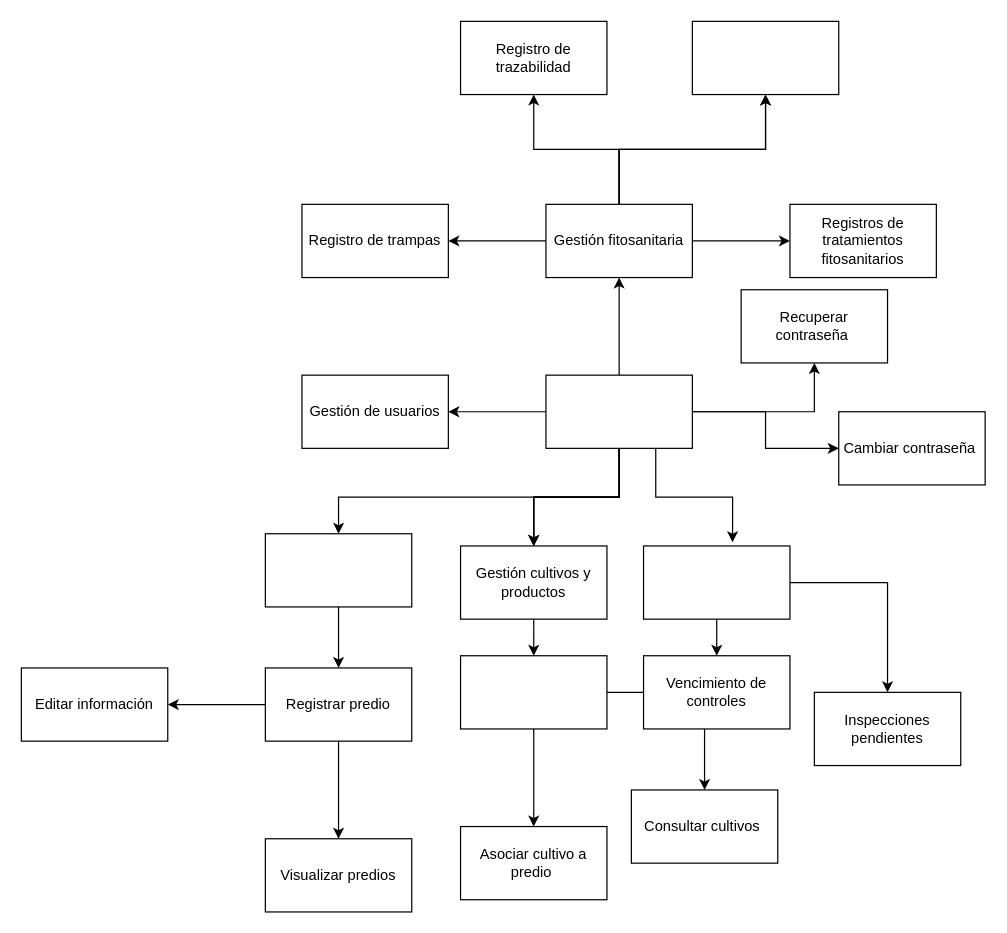
The diagram is 1007 pixels wide and 933 high, and some of its shapes have lost their labels. Here are the shapes that lost their labels. From the top down, the centre of each, then its label:
At (765,57): "Registro monitoreo de plagas".
At (618,411): "Inicio Sesión".
At (338,570): "Gestión de predios".
At (716,582): "Gestión de alertas sanitarias".
At (533,692): "Registrar cultivo o producto".
